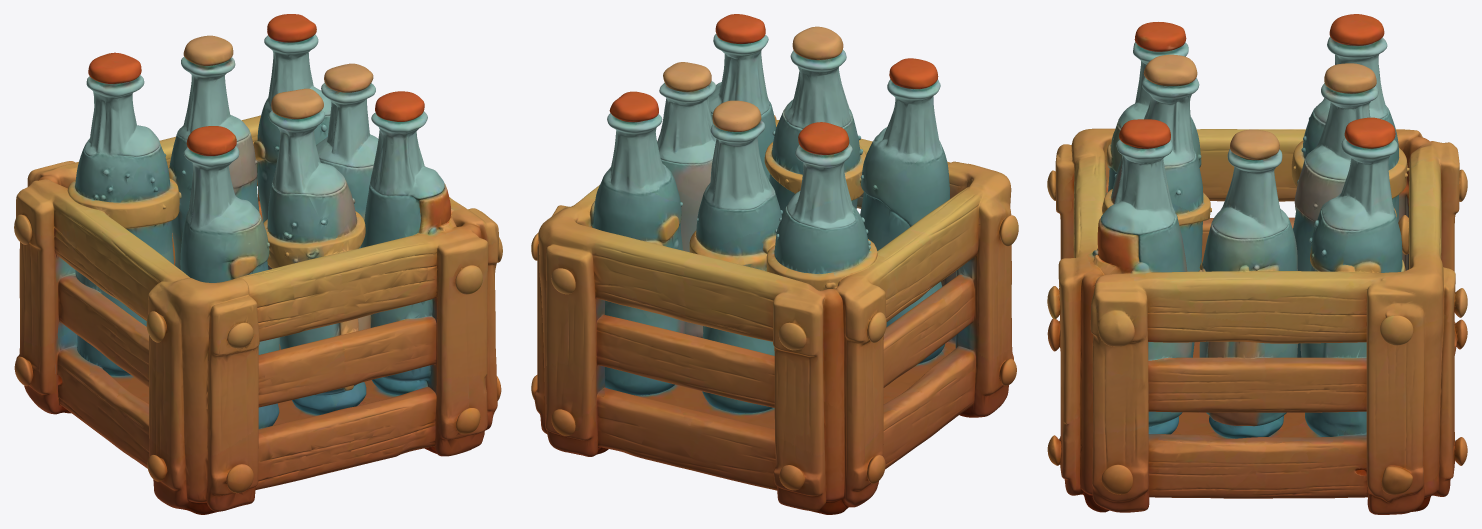
The model's file is crate-web.glb.
The picture shows the model from 3 angles, left to right: view 1: azimuth 30°, elevation 25°; view 2: azimuth 150°, elevation 25°; view 3: azimuth 270°, elevation 25°; orthographic projection. The views are drawn at different scales.
Visible parts, largest first — view 1: tripo_node_ef1e0600-bfc4-4e58-99f0-7cf409d440b1; view 2: tripo_node_ef1e0600-bfc4-4e58-99f0-7cf409d440b1; view 3: tripo_node_ef1e0600-bfc4-4e58-99f0-7cf409d440b1.
Part boxes in pixels (bbox=[...]): tripo_node_ef1e0600-bfc4-4e58-99f0-7cf409d440b1: bbox=[14, 14, 502, 514]; tripo_node_ef1e0600-bfc4-4e58-99f0-7cf409d440b1: bbox=[531, 14, 1018, 514]; tripo_node_ef1e0600-bfc4-4e58-99f0-7cf409d440b1: bbox=[1047, 14, 1467, 514].
Size of the model in its own units: 1 by 0.9878 by 0.9926.
1 material, 1 textured.
